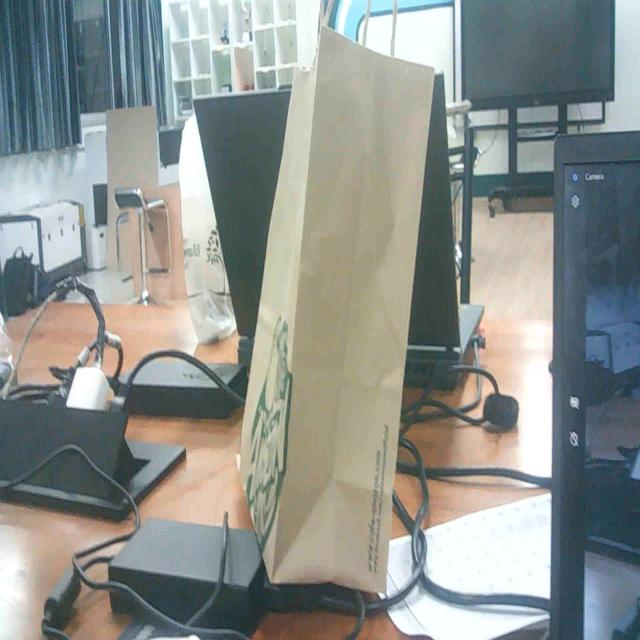bag: (226, 16, 445, 608)
